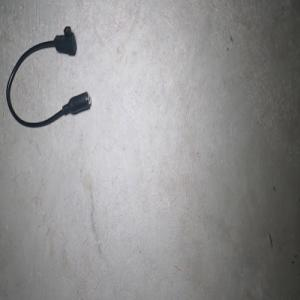Wire: (6, 26, 91, 127)
